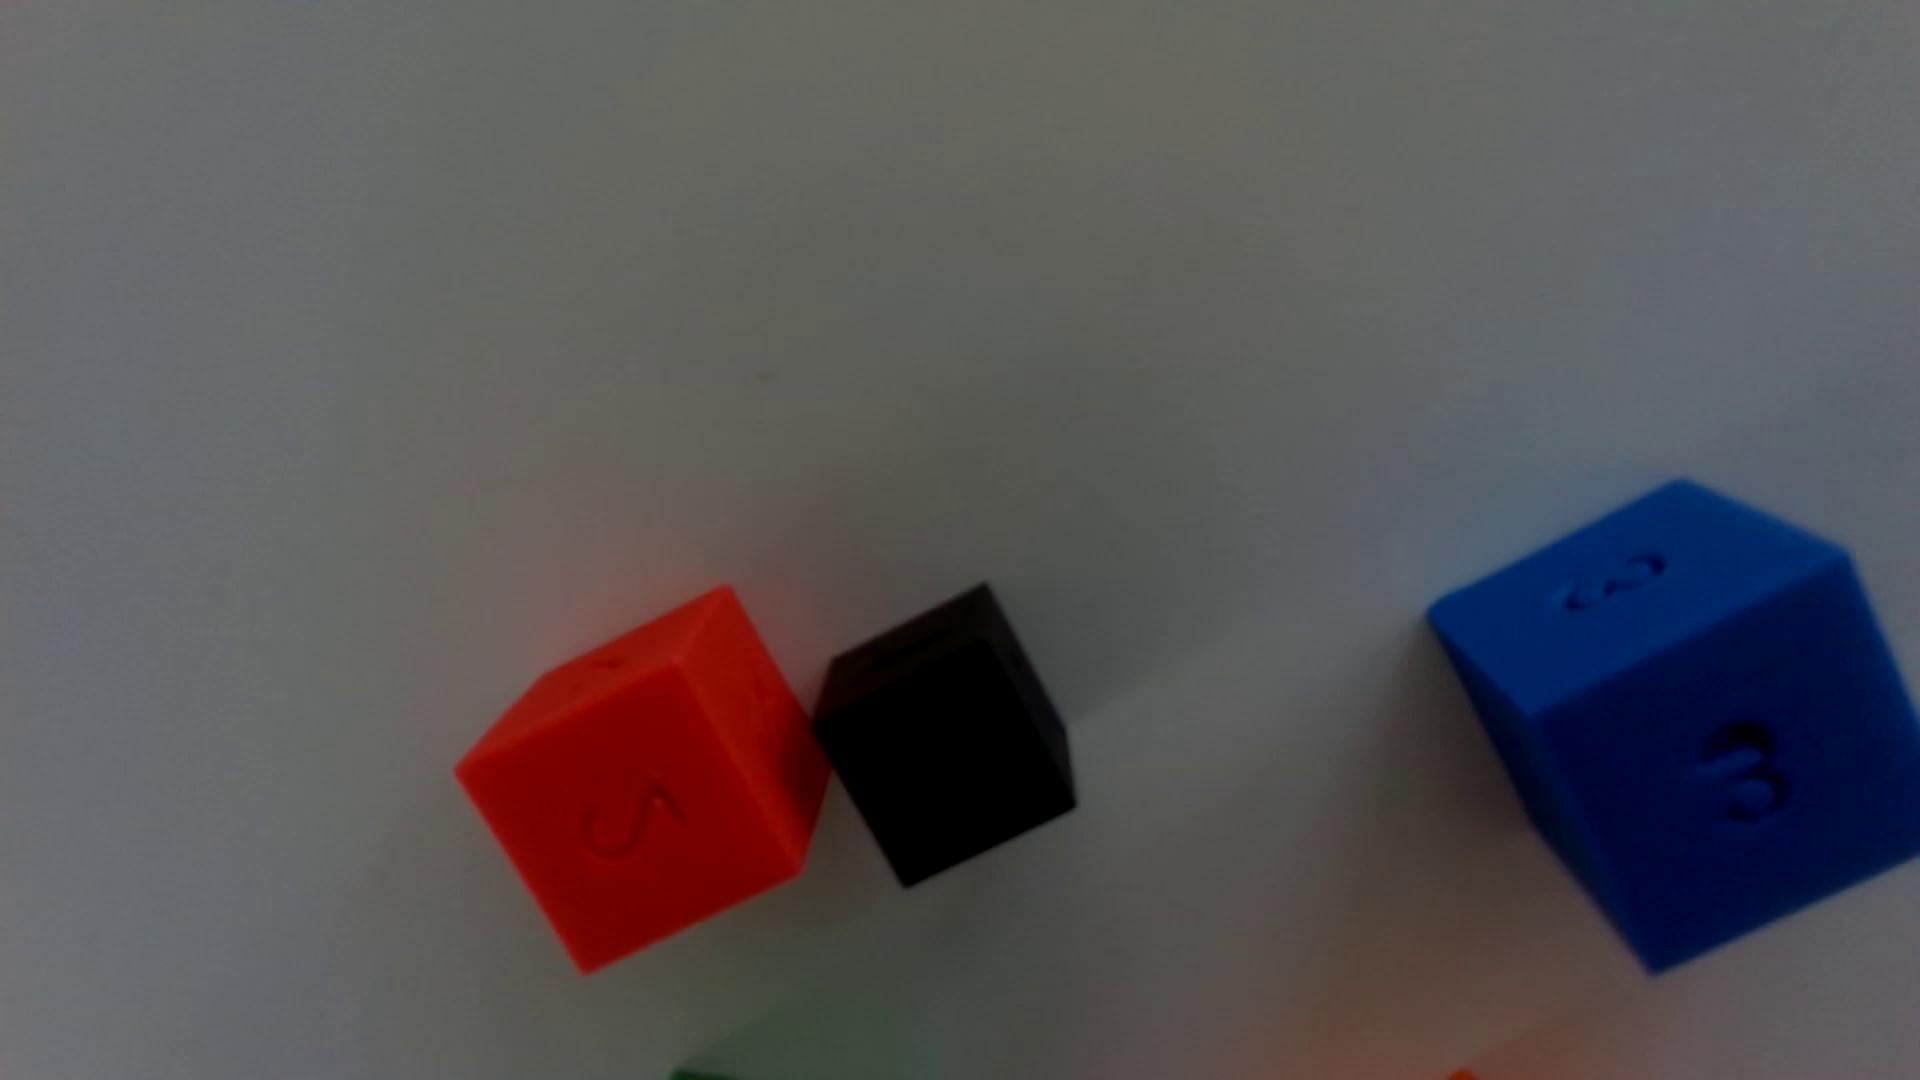black: (812, 585, 1077, 887)
blue: (1428, 483, 1920, 973)
green: (670, 1068, 732, 1080)
orange: (1447, 1069, 1478, 1080)
red: (456, 587, 829, 975)
